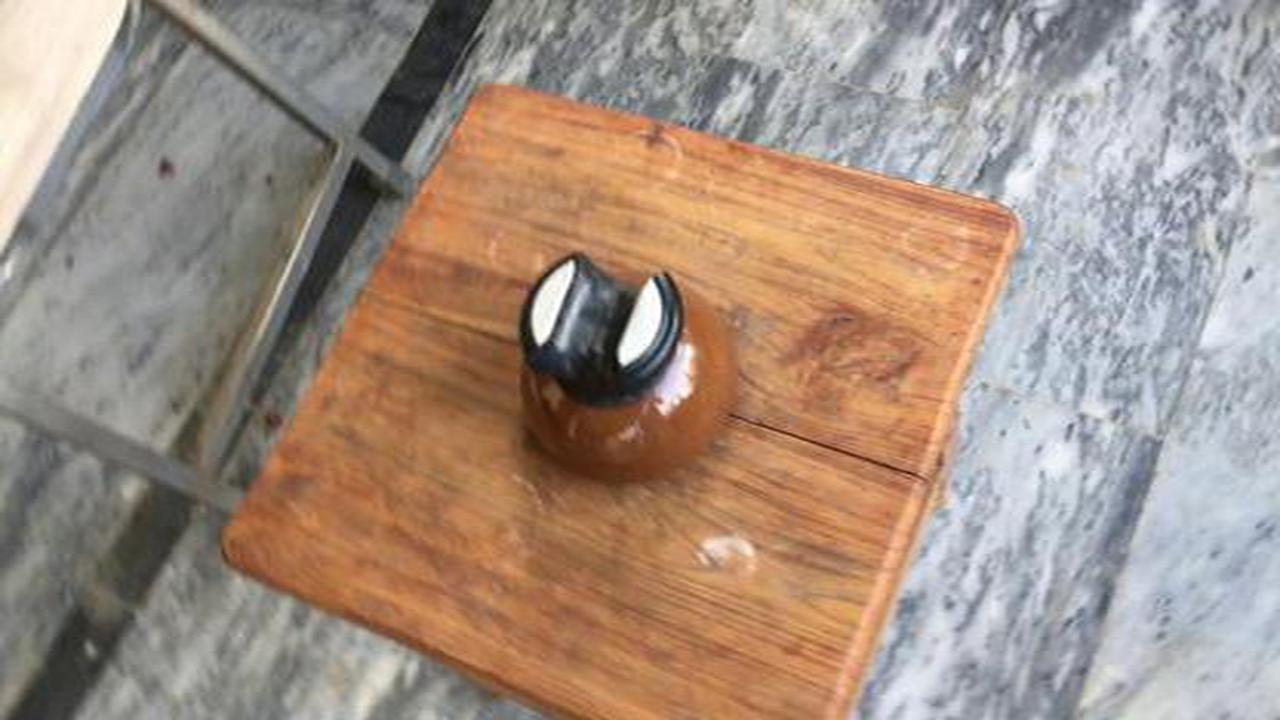insulator_pin: (499, 239, 754, 497)
